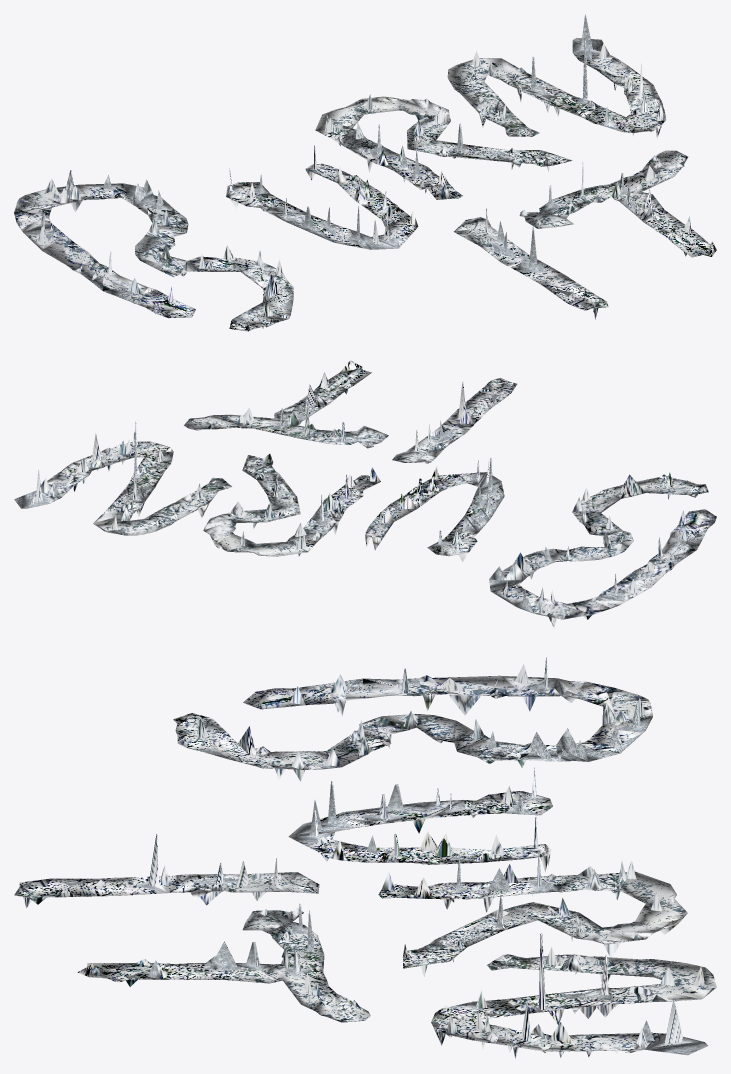
The model's file is 01_BURN_IT.glb.
3 views of the same model, one above another, from view 1: azimuth 30°, elevation 25°; view 2: azimuth 150°, elevation 25°; view 3: azimuth 270°, elevation 25° (orthographic). The views are drawn at different scales.
Visible parts, largest first — view 1: 01_BURN_IT; view 2: 01_BURN_IT; view 3: 01_BURN_IT.
Boxes of the visible parts, left/top/right/bottom form: 01_BURN_IT: left=14, top=14, right=716, bottom=331; 01_BURN_IT: left=14, top=360, right=716, bottom=628; 01_BURN_IT: left=14, top=657, right=716, bottom=1058.
Size of the model in its own units: 0.8712 by 0.1066 by 0.6823.
1 material, 1 textured.
